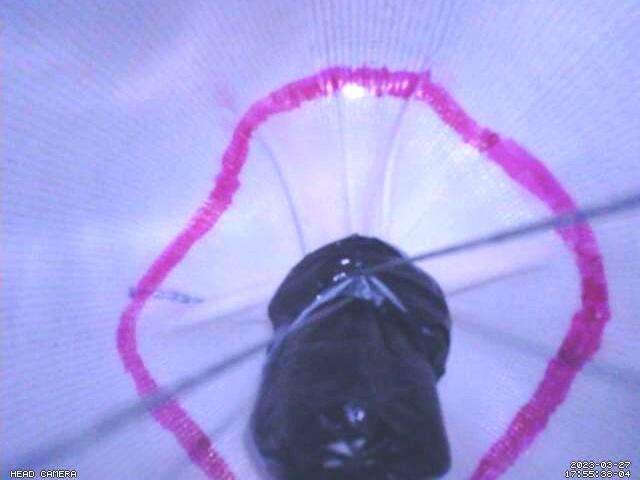red-circle: (115, 64, 612, 480)
